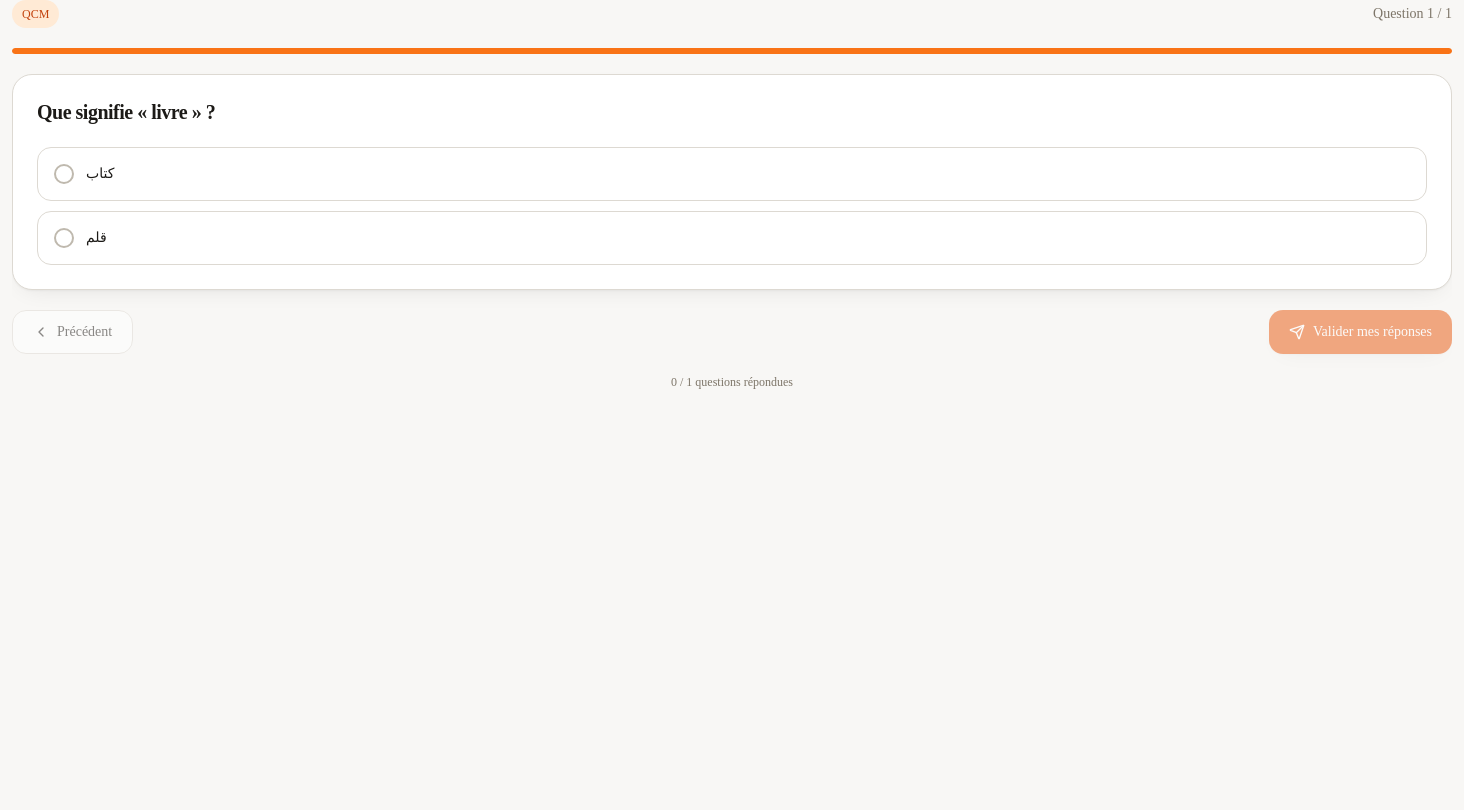
Test: ExerciseRunner › soumet la reponse choisie et affiche la correction
Click the radio button labelled "كتاب" at (64, 174), box [37,146,1427,200]
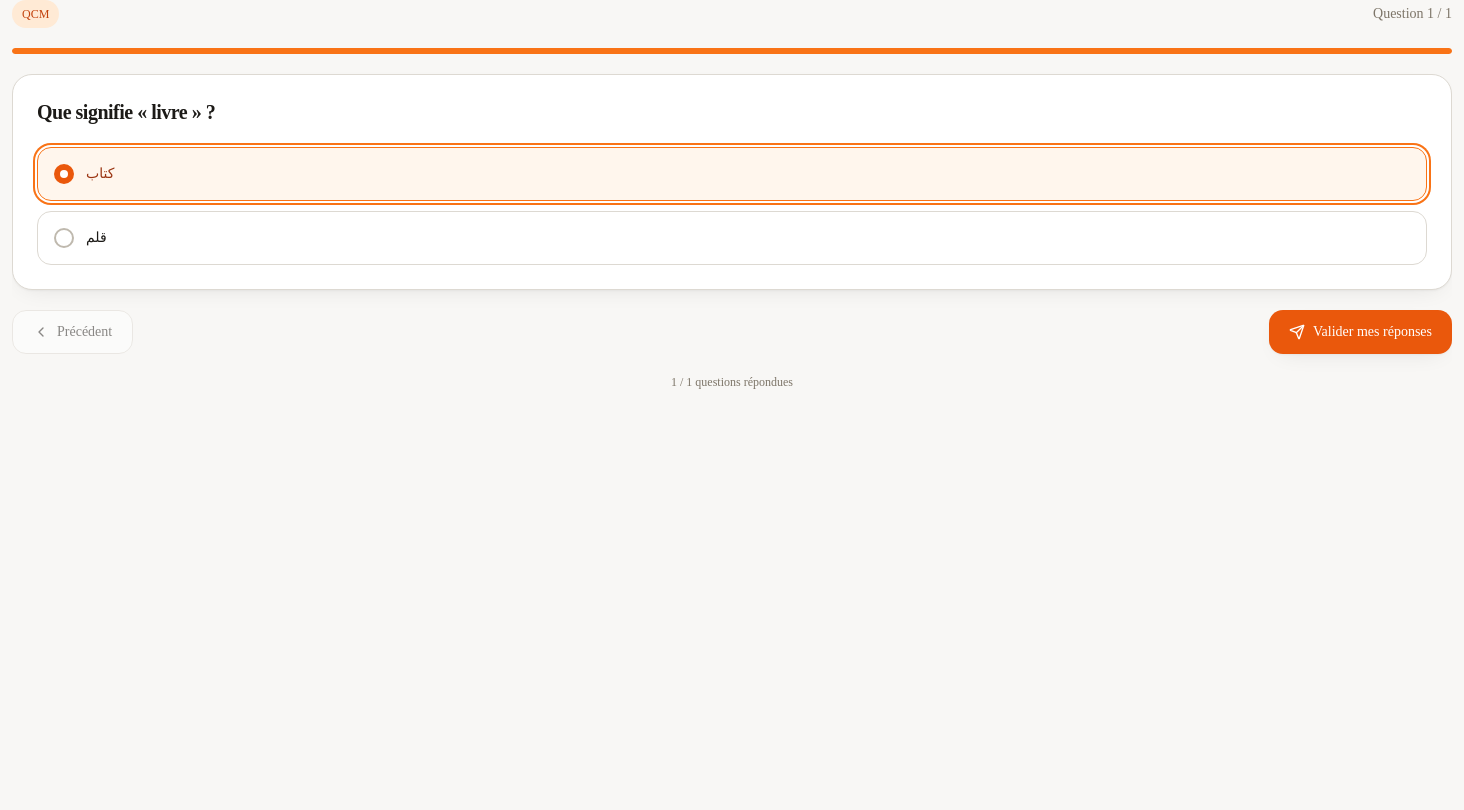
Expected: the button "Valider mes réponses" is enabled
Click the button "Valider mes réponses" at (1360, 332), box [1269,310,1452,354]
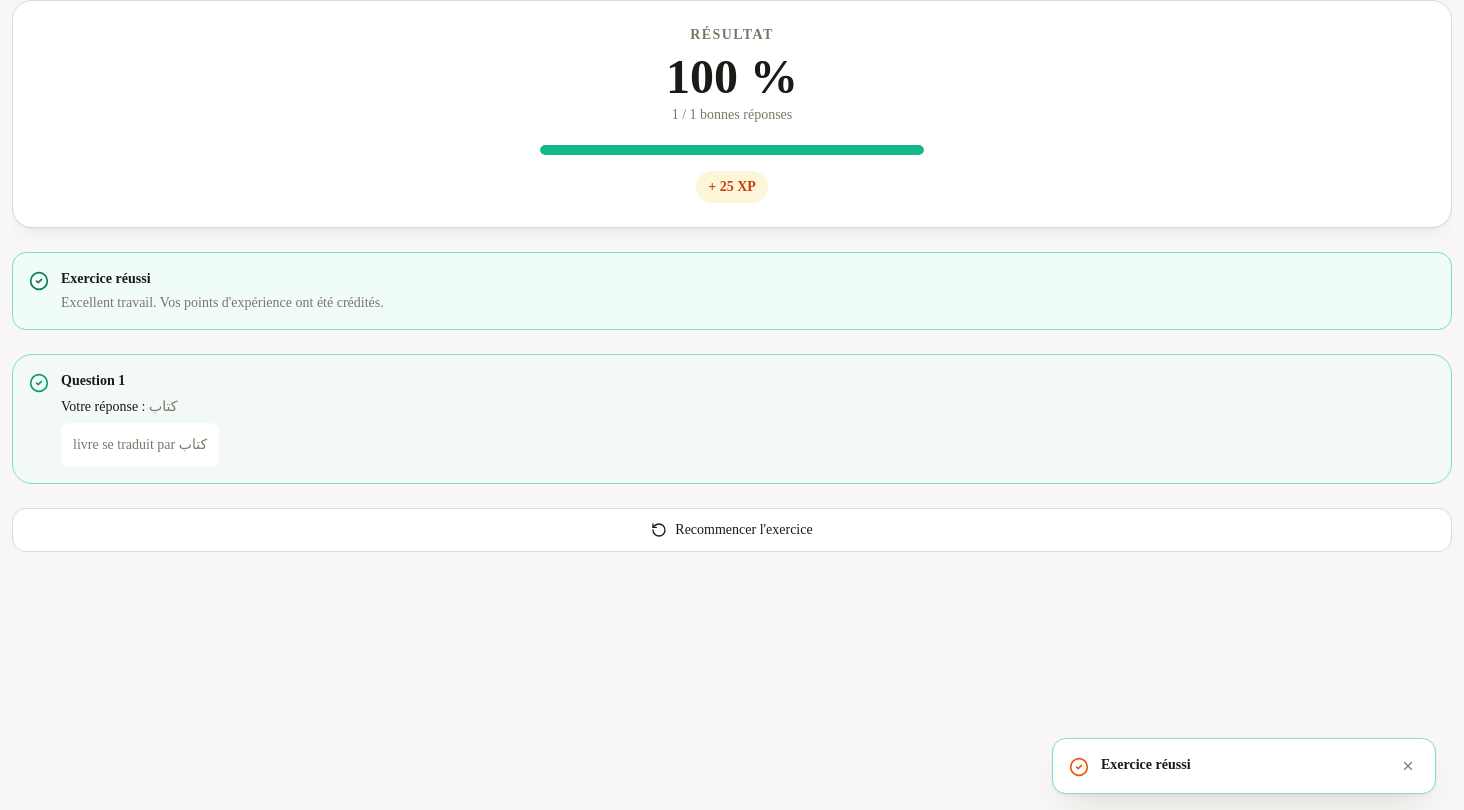
Expected: the 1st text "Exercice réussi" is shown, [61,271,150,286]
Expected: the button "Recommencer l'exercice" is shown, [12,508,1452,552]
Expected: the text "livre se traduit par كتاب" is shown, [61,423,219,467]
